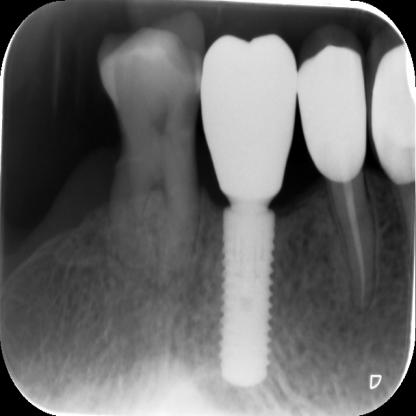ITI: (212, 204, 278, 393)
